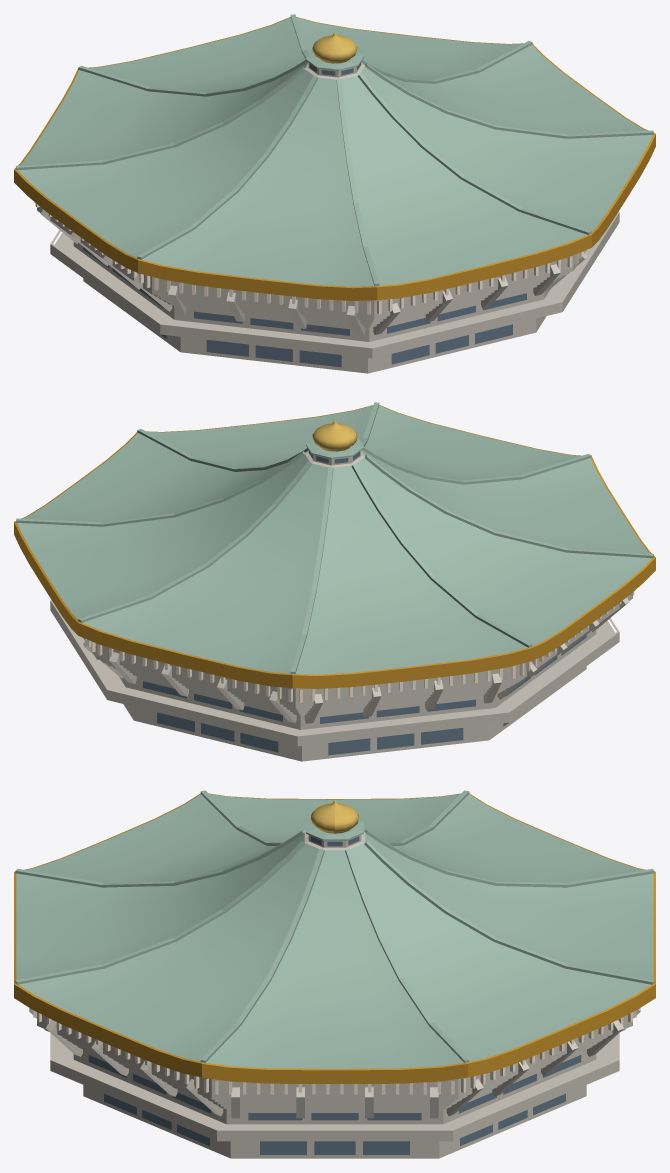
The model's file is tokyo-nippon-budokan.glb.
3 views of the same model, one above another, from view 1: azimuth 30°, elevation 25°; view 2: azimuth 150°, elevation 25°; view 3: azimuth 270°, elevation 25° (orthographic). The views are drawn at different scales.
Visible parts, largest first — view 1: Nippon Budokan; view 2: Nippon Budokan; view 3: Nippon Budokan.
Part boxes in pixels (box(x1,y1,x2,y2)): Nippon Budokan: box(14, 14, 655, 373); Nippon Budokan: box(14, 402, 655, 761); Nippon Budokan: box(14, 790, 655, 1158).
Bounding box in the file's own units: 97 × 42 × 97.
